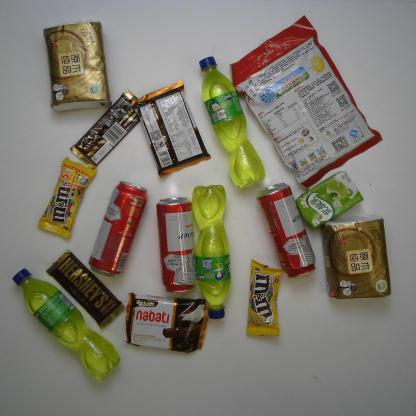Alcohol: (256, 182, 317, 279), (90, 180, 148, 276), (155, 196, 197, 294)
Chocolate: (46, 249, 125, 328), (70, 89, 141, 170), (37, 158, 98, 239), (246, 259, 282, 336)
Dessert: (130, 79, 211, 178), (123, 291, 210, 353)
Drink: (11, 268, 121, 380), (198, 56, 266, 187), (191, 184, 232, 321)
Instant Drink: (228, 15, 382, 192)
Milk: (296, 170, 365, 230)
Tissue: (42, 19, 112, 112), (321, 217, 392, 300)
